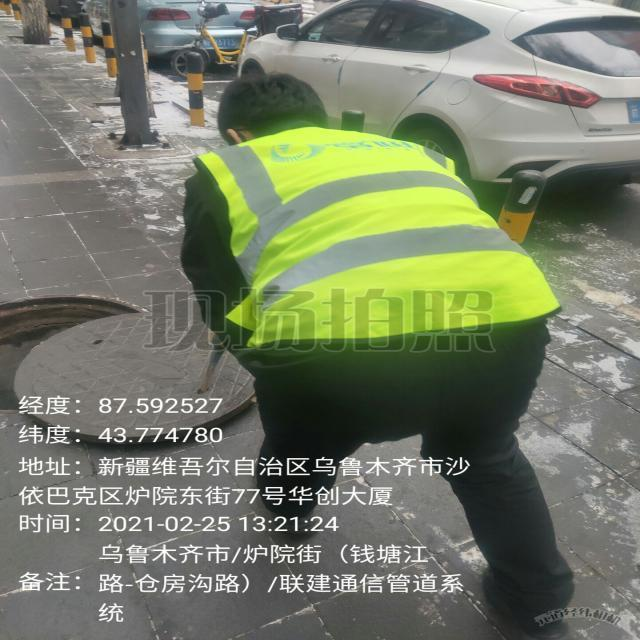manhole: (0, 296, 135, 409)
